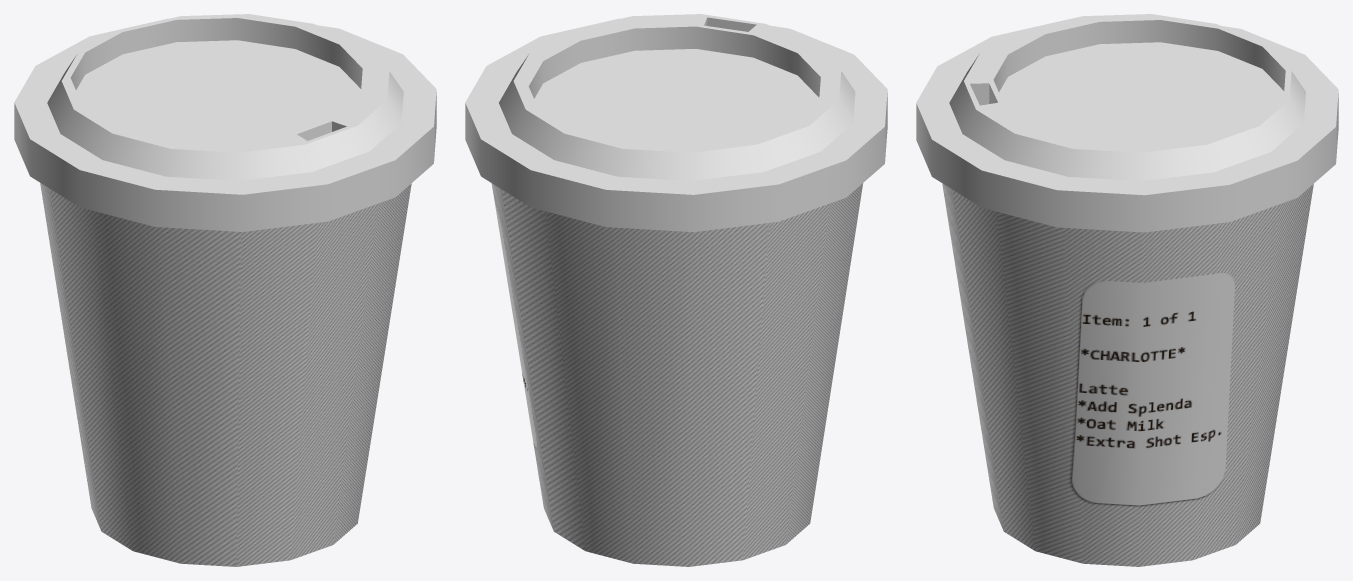
Rendered from CoffeeCup.fbx.
3 renders of one model, left to right at view 1: azimuth 30°, elevation 25°; view 2: azimuth 150°, elevation 25°; view 3: azimuth 270°, elevation 25°, orthographic.
Visible parts, largest first — view 1: coffeeCup1:coffeeCup; view 2: coffeeCup1:coffeeCup; view 3: coffeeCup1:coffeeCup.
Part boxes in pixels (x1,y1,x2,y2): coffeeCup1:coffeeCup: [14, 14, 436, 566]; coffeeCup1:coffeeCup: [465, 14, 887, 566]; coffeeCup1:coffeeCup: [916, 14, 1338, 566].
Size of the model in its own units: 0.1253 by 0.1394 by 0.125.
